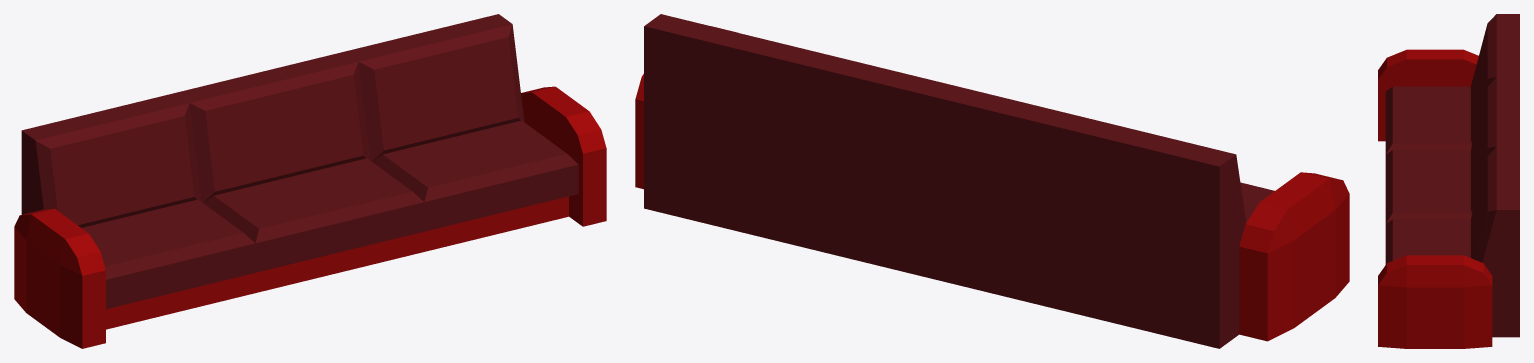
Rendered from g_o_Sofa3_02.fbx.
3 views of the same model, side by side, from view 1: azimuth 30°, elevation 25°; view 2: azimuth 150°, elevation 25°; view 3: azimuth 270°, elevation 25° (orthographic). The views are drawn at different scales.
Visible parts, largest first — view 1: g_o_3SeatSofa_02; view 2: g_o_3SeatSofa_02; view 3: g_o_3SeatSofa_02.
Boxes of the visible parts, box(x1,y1,x2,y2) form: g_o_3SeatSofa_02: box(14, 14, 606, 348); g_o_3SeatSofa_02: box(635, 14, 1349, 348); g_o_3SeatSofa_02: box(1378, 14, 1519, 348).
Bounding box in the file's own units: 278 × 75.25 × 75.97.
